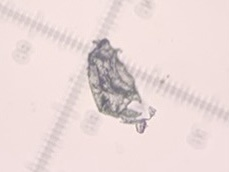microplastic: (84, 36, 159, 139)
